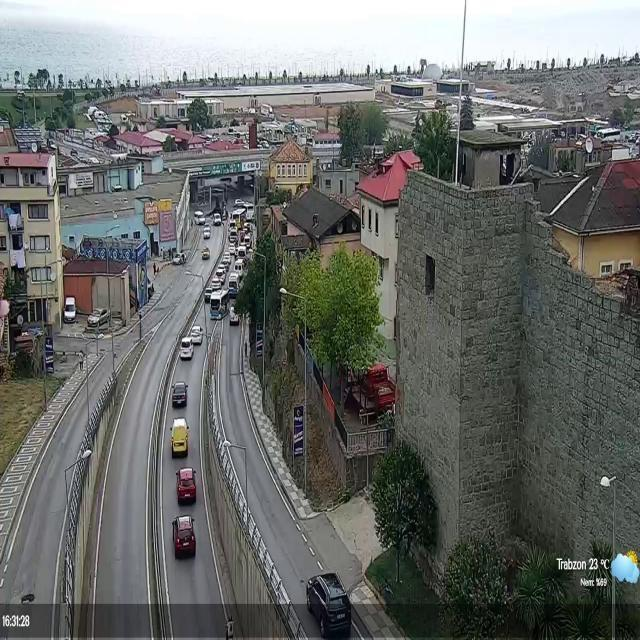Bus: (209, 290, 229, 320)
Car: (306, 572, 352, 637), (172, 515, 198, 560), (175, 467, 198, 505), (171, 382, 189, 409), (87, 307, 110, 328), (178, 336, 194, 360), (189, 325, 203, 344), (228, 272, 239, 292), (229, 306, 239, 326), (214, 266, 226, 280), (173, 252, 186, 264), (210, 277, 222, 290), (204, 286, 213, 302), (234, 258, 244, 272), (222, 253, 231, 266), (213, 213, 222, 225), (202, 247, 210, 260), (203, 227, 211, 239), (228, 244, 236, 256)
Van: (170, 419, 190, 457), (64, 296, 76, 323), (194, 210, 205, 225)
